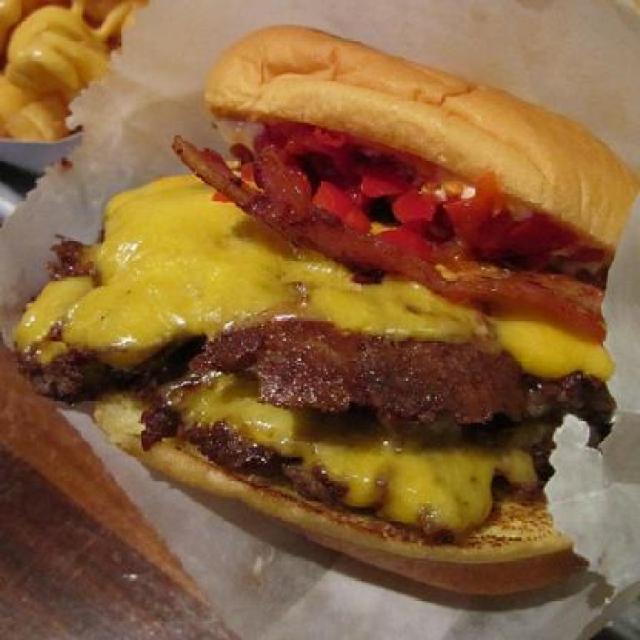Hamburger: (13, 22, 639, 595)
